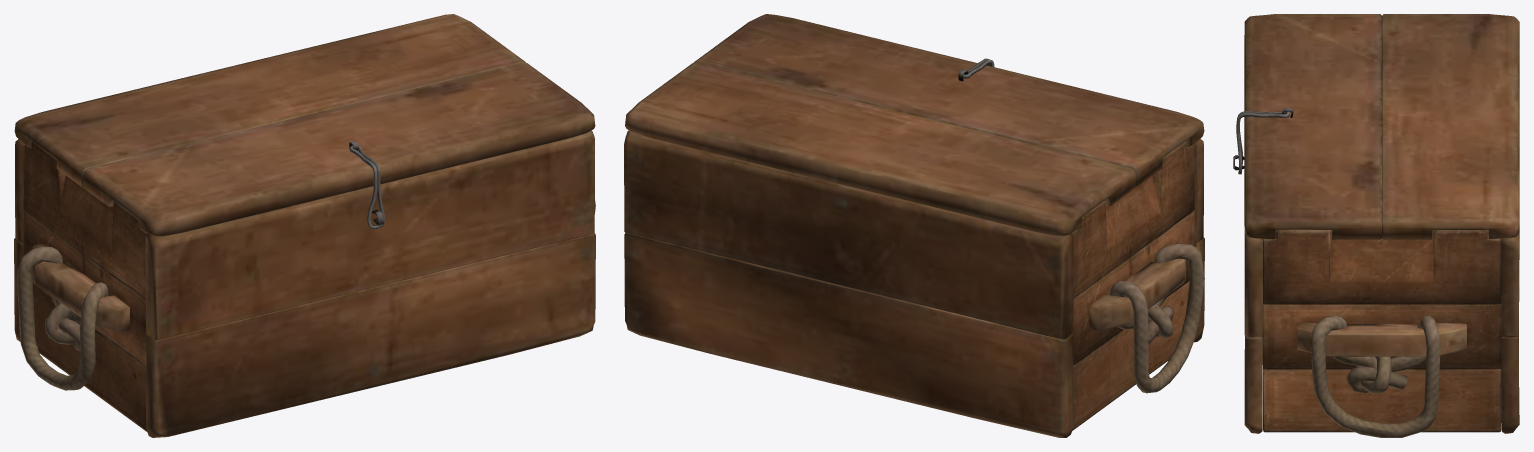
File: crate_wood.glb
The picture shows the model from 3 angles, left to right: view 1: azimuth 30°, elevation 25°; view 2: azimuth 150°, elevation 25°; view 3: azimuth 270°, elevation 25°; orthographic projection. The views are drawn at different scales.
Visible parts, largest first — view 1: wooden_crate_01, wooden_crate_01_lid, wooden_crate_01_latch; view 2: wooden_crate_01, wooden_crate_01_lid; view 3: wooden_crate_01_lid, wooden_crate_01, wooden_crate_01_latch.
Boxes of the visible parts, x1=… form: wooden_crate_01: x1=14, y1=130, x2=595, y2=437; wooden_crate_01_lid: x1=14, y1=14, x2=595, y2=236; wooden_crate_01_latch: x1=350, y1=145, x2=384, y2=229; wooden_crate_01: x1=624, y1=130, x2=1204, y2=437; wooden_crate_01_lid: x1=625, y1=14, x2=1204, y2=236; wooden_crate_01_lid: x1=1244, y1=14, x2=1519, y2=239; wooden_crate_01: x1=1233, y1=155, x2=1519, y2=437; wooden_crate_01_latch: x1=1236, y1=111, x2=1289, y2=174.
Size of the model in its own units: 0.8253 by 0.3495 by 0.4072.
1 material, 1 textured.
